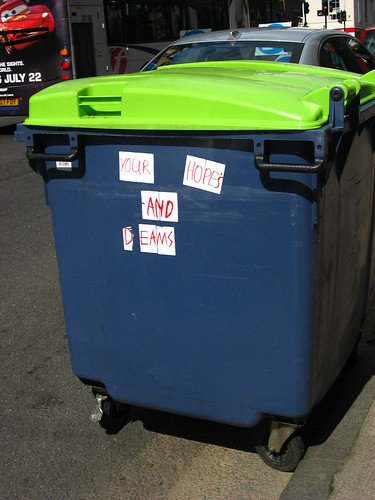dumpster: (27, 80, 368, 446)
